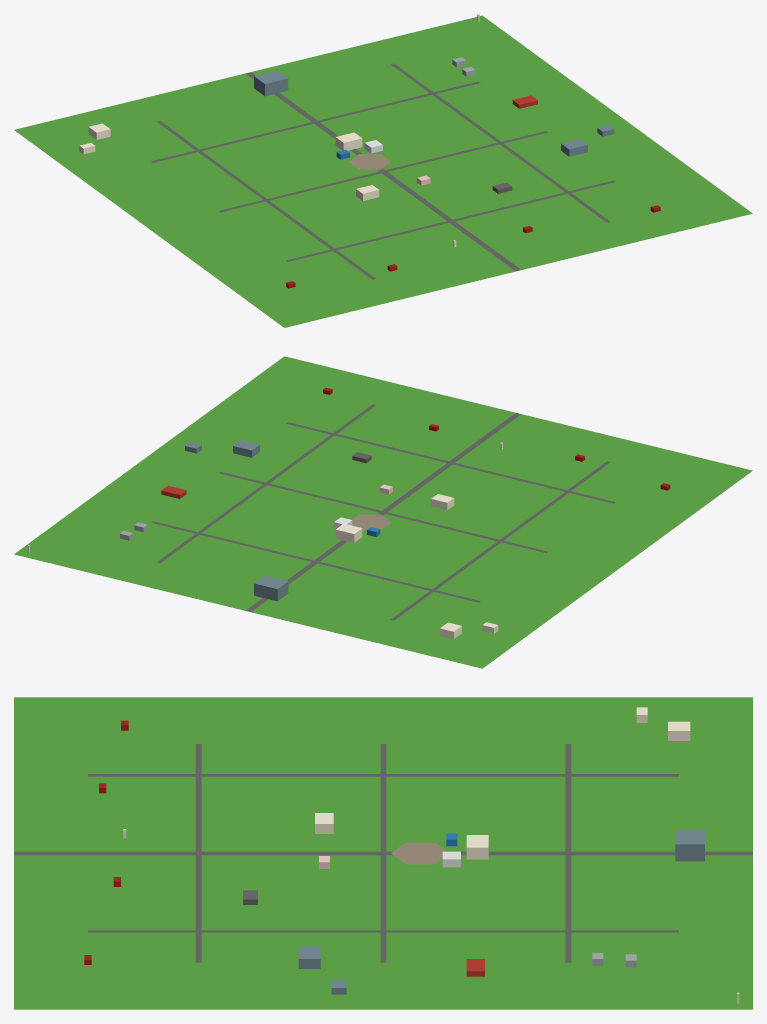
The model's file is map_overview.glb.
3 views of the same model, one above another, from view 1: azimuth 30°, elevation 25°; view 2: azimuth 150°, elevation 25°; view 3: azimuth 270°, elevation 25° (orthographic). The views are drawn at different scales.
Visible parts, largest first — view 1: OV_Ground, OV_MainBlvd, OV_NSRoad1, OV_NSRoad2, OV_EWRoad2, OV_EWRoad3, OV_EWRoad1, OV_Gym, OV_Plaza; view 2: OV_Ground, OV_MainBlvd, OV_NSRoad2, OV_NSRoad1, OV_EWRoad1, OV_EWRoad3, OV_EWRoad2, OV_Gym; view 3: OV_Ground, OV_MainBlvd, OV_NSRoad2, OV_NSRoad1, OV_EWRoad3, OV_EWRoad1, OV_EWRoad2, OV_Gym, OV_Plaza, OV_CityHall, OV_Factory.
Part boxes in pixels (x1,y1,x2,y2): OV_Ground: [14, 15, 752, 327]; OV_MainBlvd: [246, 72, 520, 271]; OV_NSRoad1: [156, 120, 375, 279]; OV_NSRoad2: [391, 63, 610, 222]; OV_EWRoad2: [219, 131, 548, 212]; OV_EWRoad3: [286, 180, 615, 261]; OV_EWRoad1: [151, 81, 480, 162]; OV_Gym: [254, 70, 288, 96]; OV_Plaza: [348, 154, 391, 169]; OV_Ground: [14, 356, 752, 668]; OV_MainBlvd: [245, 413, 521, 611]; OV_NSRoad2: [156, 404, 375, 563]; OV_NSRoad1: [391, 461, 610, 620]; OV_EWRoad1: [151, 521, 480, 602]; OV_EWRoad3: [286, 422, 615, 503]; OV_EWRoad2: [219, 471, 547, 553]; OV_Gym: [254, 575, 288, 601]; OV_Ground: [14, 697, 752, 1009]; OV_MainBlvd: [14, 851, 752, 855]; OV_NSRoad2: [88, 930, 678, 932]; OV_NSRoad1: [88, 774, 678, 776]; OV_EWRoad3: [195, 744, 201, 962]; OV_EWRoad1: [565, 744, 571, 962]; OV_EWRoad2: [380, 744, 386, 962]; OV_Gym: [675, 829, 704, 861]; OV_Plaza: [391, 842, 446, 864]; OV_CityHall: [466, 835, 488, 859]; OV_Factory: [298, 946, 320, 968].
Size of the model in its own units: 1000 by 25.25 by 1000.
